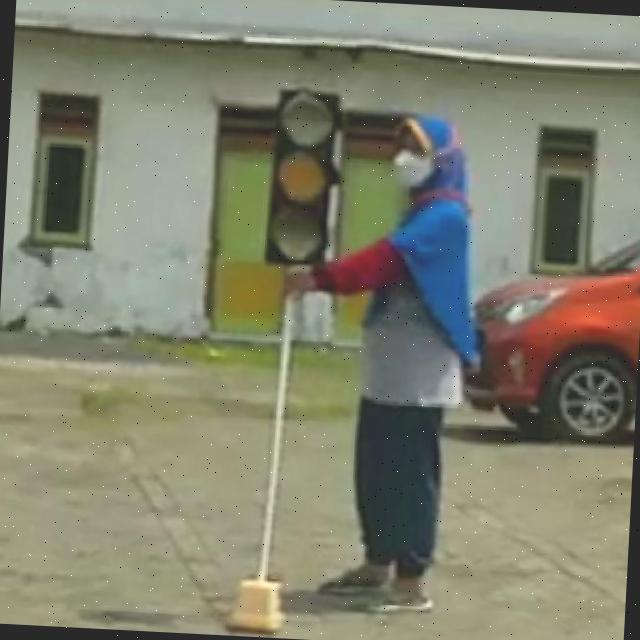yellow_light: (258, 87, 342, 270)
